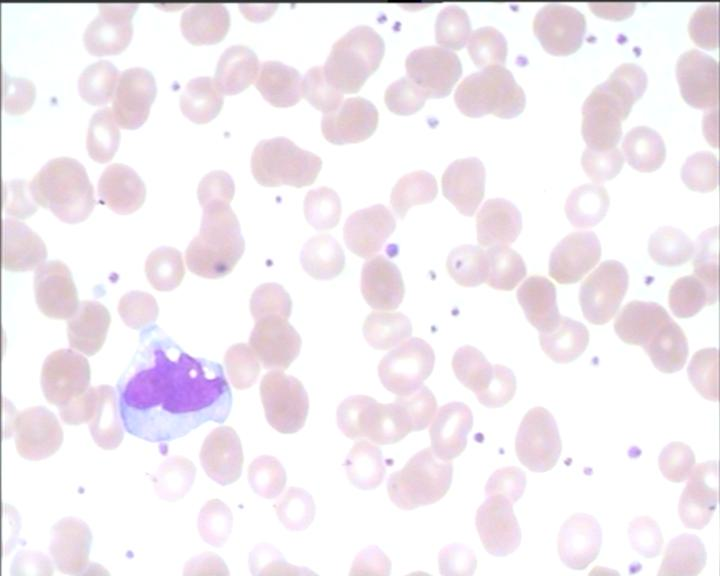mono: (110, 324, 237, 440)
